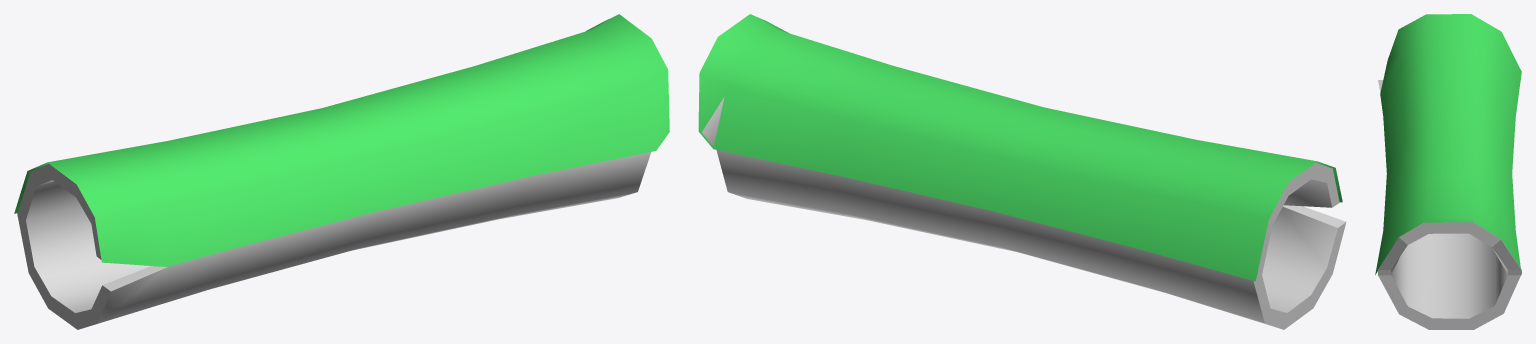
Rendered from TreeTrunk_Beech_Moss.fbx.
The picture shows the model from 3 angles, left to right: view 1: azimuth 30°, elevation 25°; view 2: azimuth 150°, elevation 25°; view 3: azimuth 270°, elevation 25°; orthographic projection. The views are drawn at different scales.
Parts seen in each view (by area): view 1: TreeTrunk_Beech_Moss_LOD0; view 2: TreeTrunk_Beech_Moss_LOD0; view 3: TreeTrunk_Beech_Moss_LOD0.
Part boxes in pixels (<box>): TreeTrunk_Beech_Moss_LOD0: <box>14,14,669,329</box>; TreeTrunk_Beech_Moss_LOD0: <box>698,14,1346,329</box>; TreeTrunk_Beech_Moss_LOD0: <box>1375,14,1521,329</box>.
Size of what is drawn, in the model's own units: 2.54 by 0.6599 by 0.7376.
